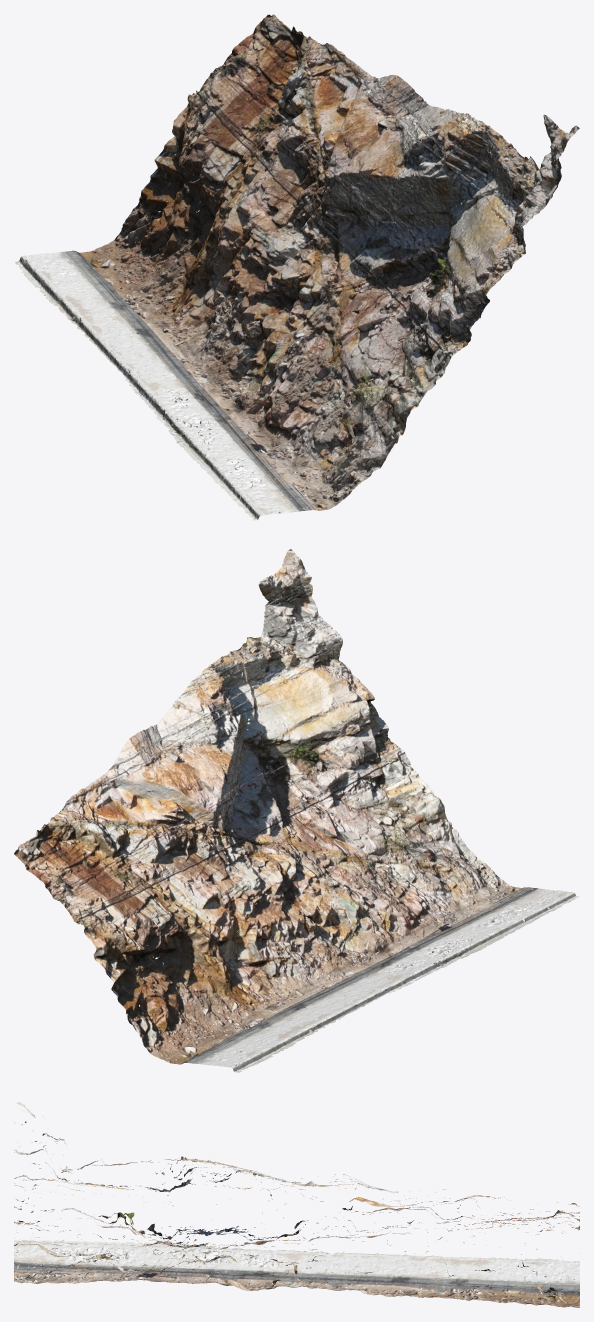
3 renders of one model, top to bottom at view 1: azimuth 30°, elevation 25°; view 2: azimuth 150°, elevation 25°; view 3: azimuth 270°, elevation 25°, orthographic. The views are drawn at different scales.
Bounding box in the file's own units: 9.19 × 8.63 × 15.26.
2 materials, 2 textured.
